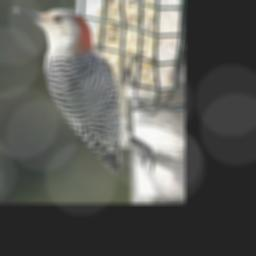Woodpecker: (14, 7, 156, 173)
